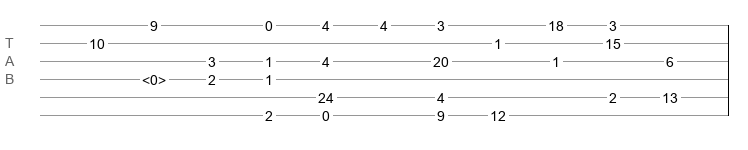0: (265, 18, 273, 28), (322, 108, 330, 118)
1: (265, 72, 273, 82), (265, 54, 273, 64), (494, 36, 502, 46), (552, 54, 560, 64)
10: (89, 36, 105, 46)
12: (490, 108, 506, 118)
13: (662, 90, 678, 100)
15: (605, 36, 621, 46)
18: (548, 18, 564, 28)
2: (208, 72, 216, 82), (265, 108, 273, 118), (609, 90, 617, 100)
20: (433, 54, 449, 64)
24: (318, 90, 334, 100)
3: (208, 54, 216, 64), (437, 18, 445, 28), (609, 18, 617, 28)
4: (322, 18, 330, 28), (322, 54, 330, 64), (380, 18, 388, 28), (437, 90, 445, 100)
6: (666, 54, 674, 64)
9: (150, 18, 158, 28), (437, 108, 445, 118)
harmonic: (142, 72, 166, 82)
